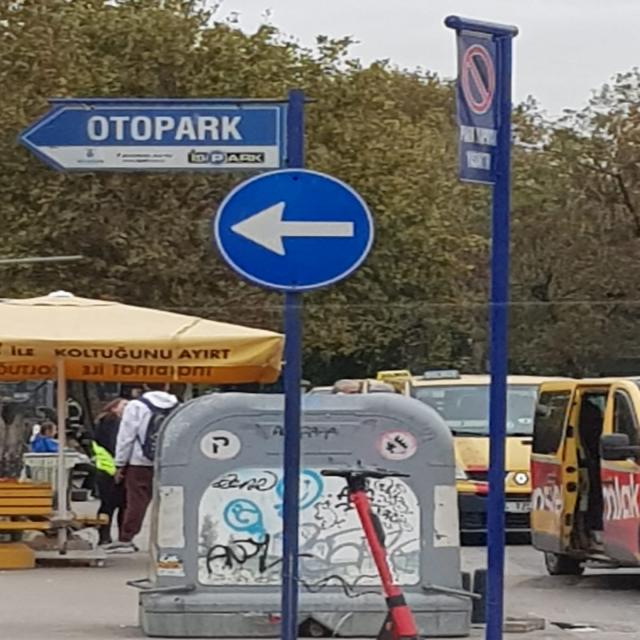Turn Left: (207, 175, 382, 292)
